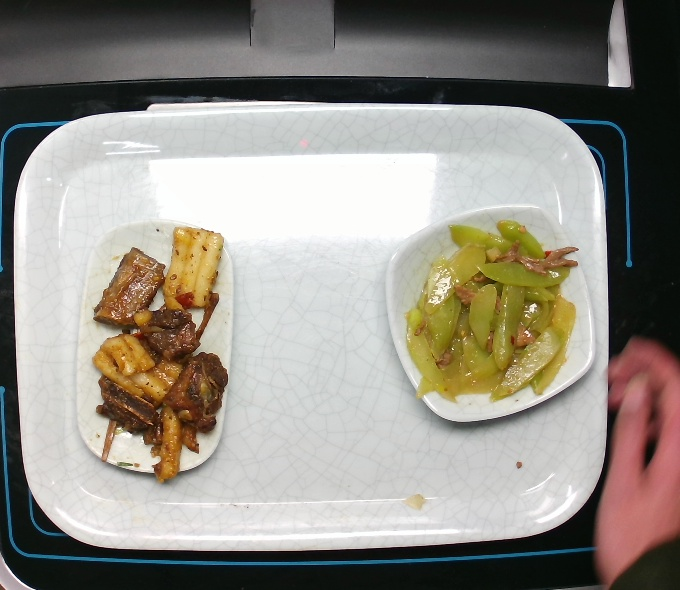wcq-NianGaoZaiPai: (83, 227, 227, 481)
wcq-WoSun: (406, 218, 585, 406)
